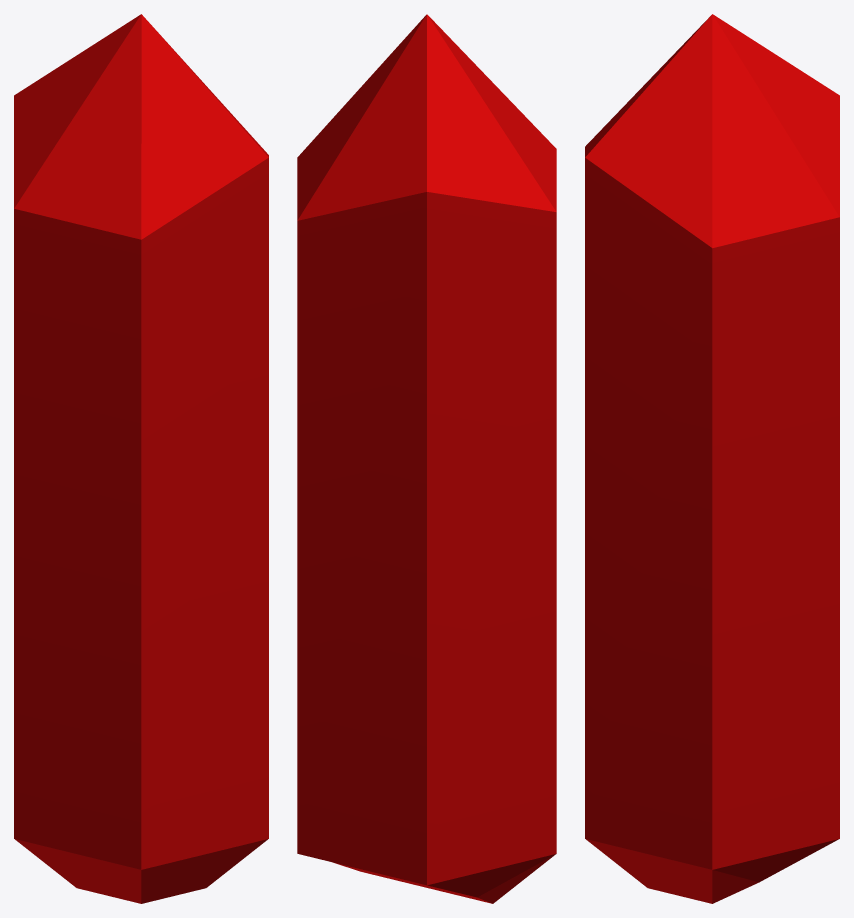
Rendered from geology-crystals-coloredcrystal_v4.fbx.
3 views of the same model, side by side, from view 1: azimuth 30°, elevation 25°; view 2: azimuth 150°, elevation 25°; view 3: azimuth 270°, elevation 25° (orthographic).
Parts seen in each view (by area): view 1: ColoredCrystal_v4; view 2: ColoredCrystal_v4; view 3: ColoredCrystal_v4.
Part boxes in pixels (x1,y1,x2,y2): ColoredCrystal_v4: (14, 14, 268, 903); ColoredCrystal_v4: (297, 14, 556, 903); ColoredCrystal_v4: (585, 14, 839, 903).
Bounding box in the file's own units: 1.5 × 4.82 × 1.3.
